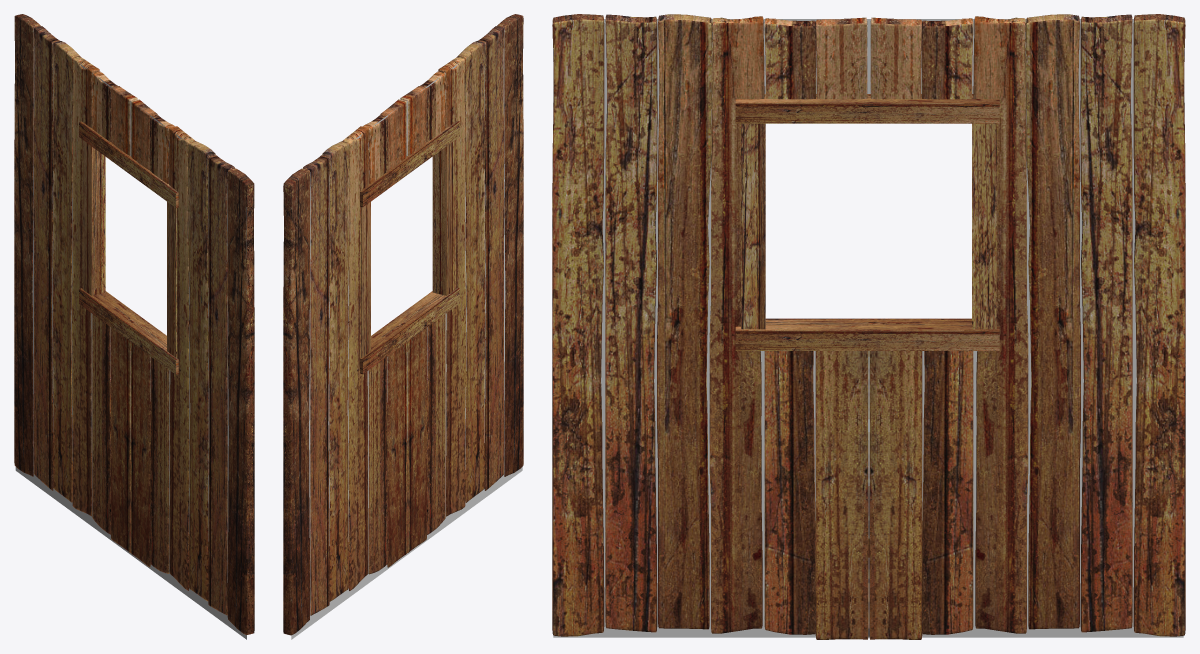
3 renders of one model, left to right at view 1: azimuth 30°, elevation 25°; view 2: azimuth 150°, elevation 25°; view 3: azimuth 270°, elevation 25°, orthographic. The views are drawn at different scales.
Visible parts, largest first — view 1: wood:wood:polySurface10, Object17; view 2: wood:wood:polySurface10, Object17; view 3: wood:wood:polySurface10, Object17.
Boxes of the visible parts, box(x1,y1,x2,y2) form: wood:wood:polySurface10: box(14, 14, 254, 634); Object17: box(15, 30, 246, 639); wood:wood:polySurface10: box(283, 14, 523, 635); Object17: box(291, 30, 522, 639); wood:wood:polySurface10: box(552, 14, 1185, 639); Object17: box(553, 19, 1183, 637).
Bounding box in the file's own units: 5.33 × 119 × 129.
